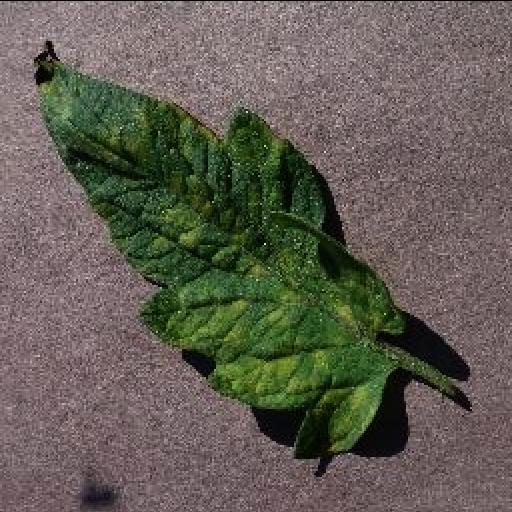disease_tomato: (32, 40, 402, 454)
